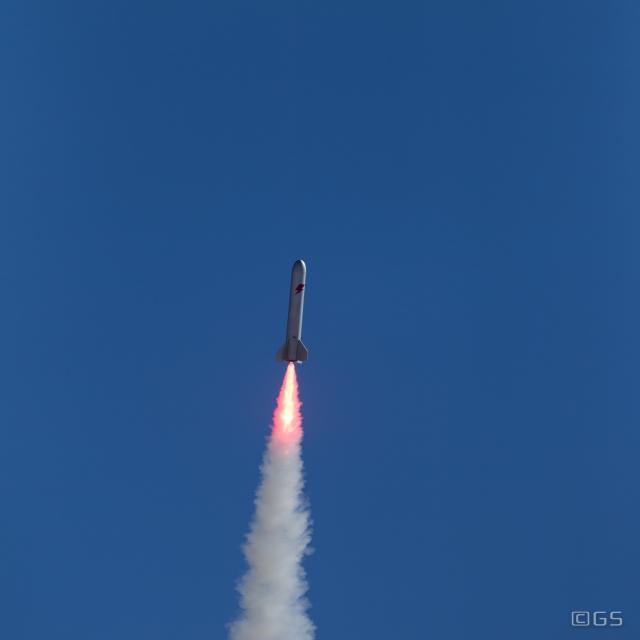Rocket: (272, 252, 312, 366)
